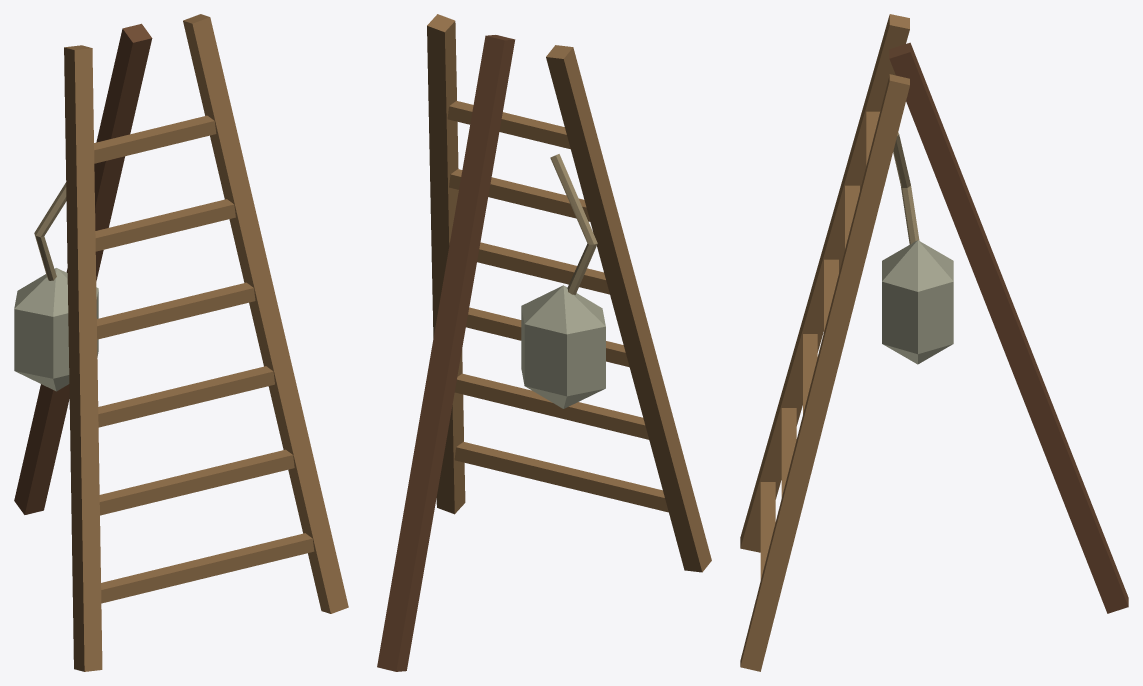
File: Prop_Daily_OrchardLadder_001_LOD1.glb
3 views of the same model, side by side, from view 1: azimuth 30°, elevation 25°; view 2: azimuth 150°, elevation 25°; view 3: azimuth 270°, elevation 25° (orthographic).
Visible parts, largest first — view 1: Prop_Daily_OrchardLadder_001_LOD1; view 2: Prop_Daily_OrchardLadder_001_LOD1; view 3: Prop_Daily_OrchardLadder_001_LOD1.
Boxes of the visible parts, x1,y1,x2,y2 form: Prop_Daily_OrchardLadder_001_LOD1: (14,14,348,671); Prop_Daily_OrchardLadder_001_LOD1: (377,14,711,671); Prop_Daily_OrchardLadder_001_LOD1: (740,14,1128,671).
Size of the model in its own units: 1.03 by 2.08 by 1.3.
